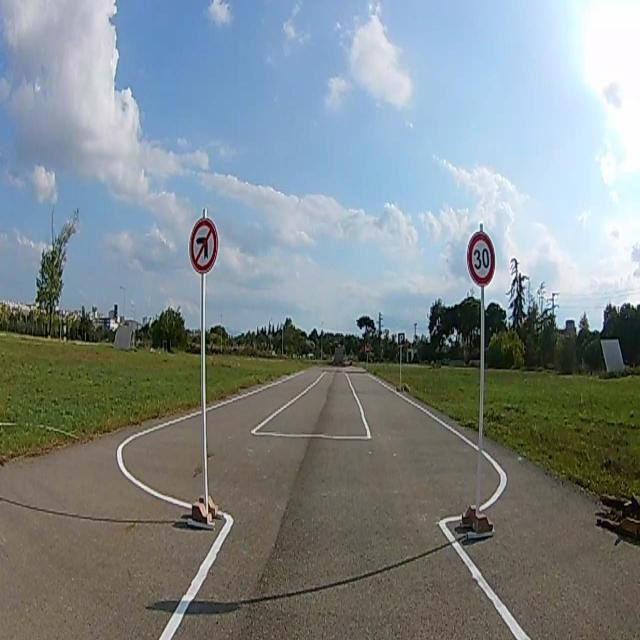30: (467, 235, 495, 285)
soladonulmez: (189, 218, 218, 273)
